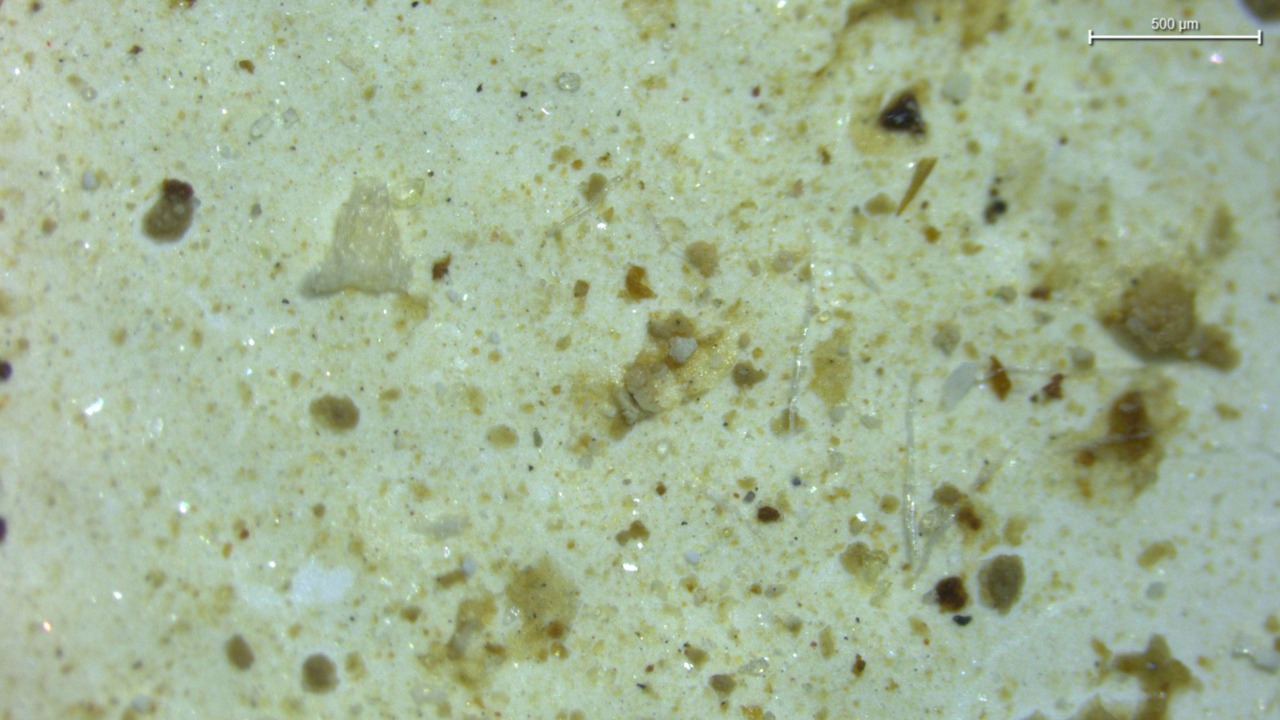microplastic_fragment: (301, 178, 410, 296), (942, 362, 976, 410), (669, 336, 698, 364)
